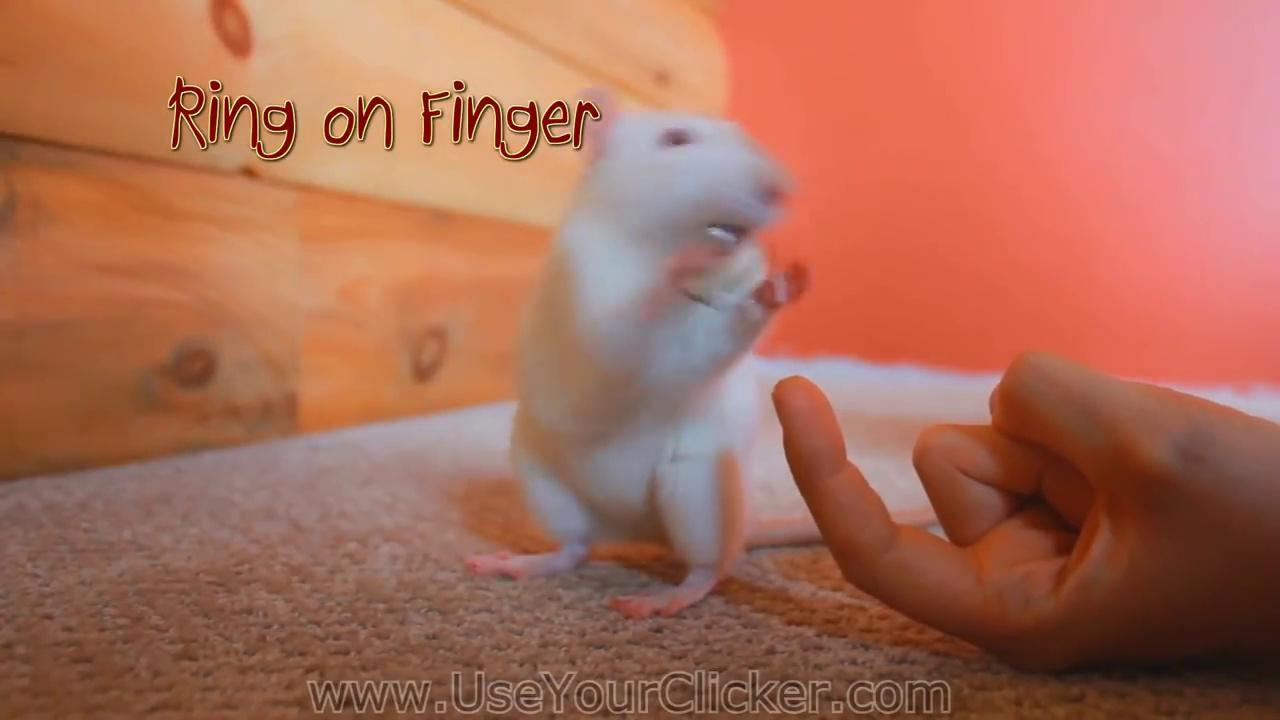rat: (462, 90, 808, 616)
